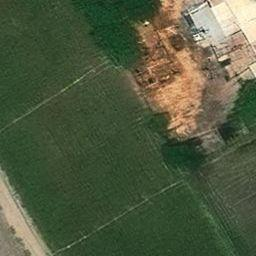manzanas: (173, 0, 255, 85)
